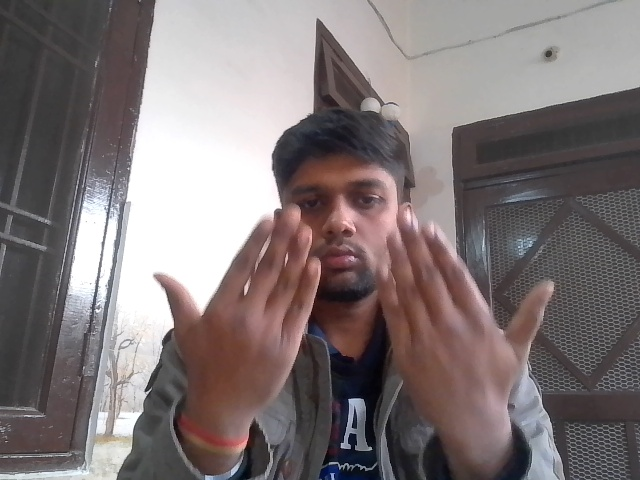ThankYou: (144, 204, 575, 440)
